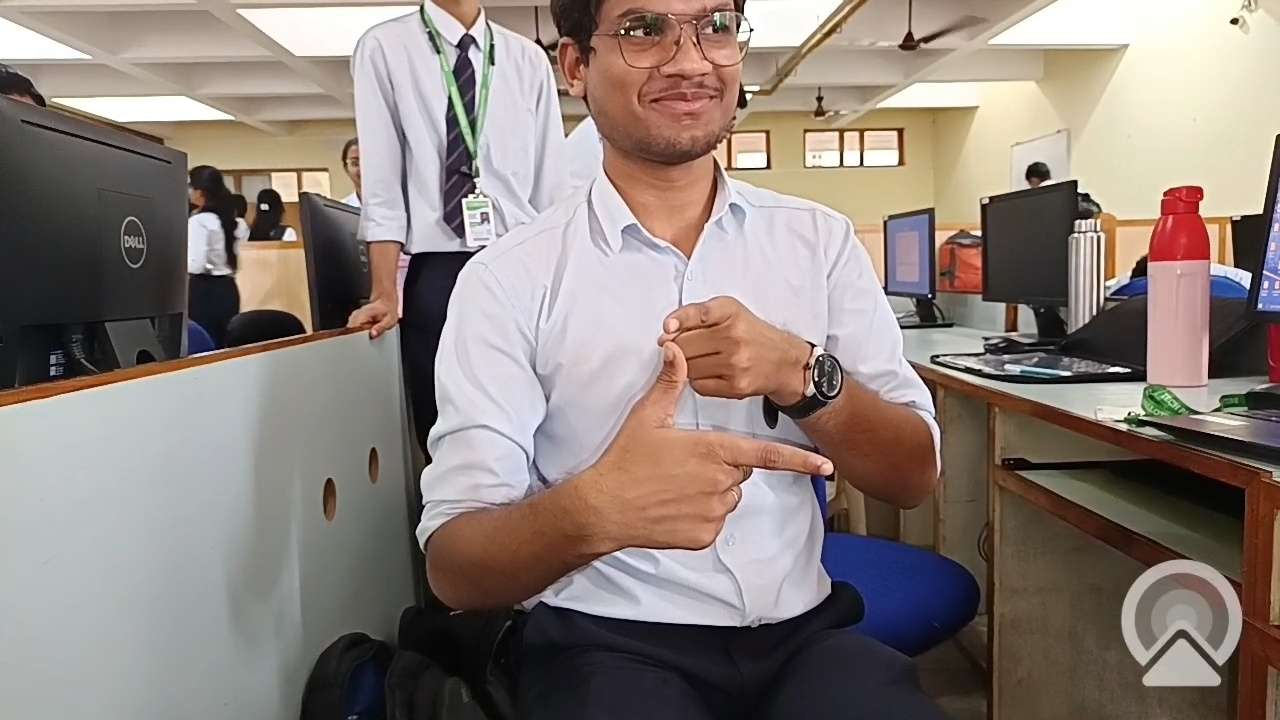J: (576, 278, 895, 591)
